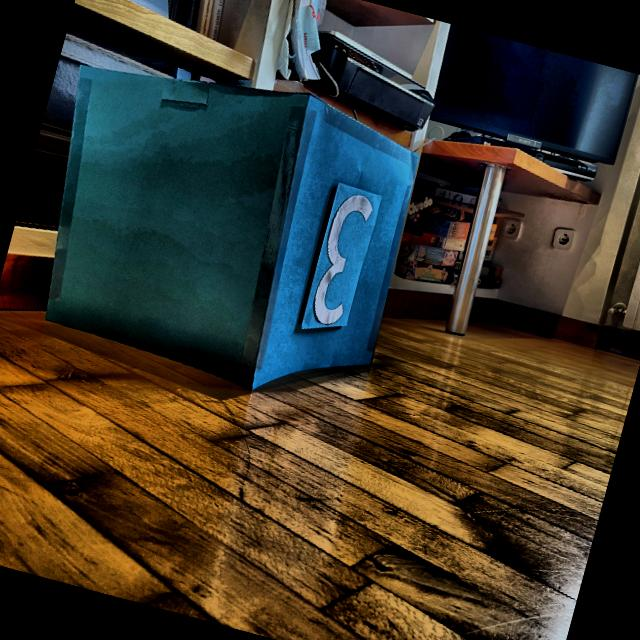blue box: (6, 32, 438, 422)
three: (300, 180, 380, 332)
